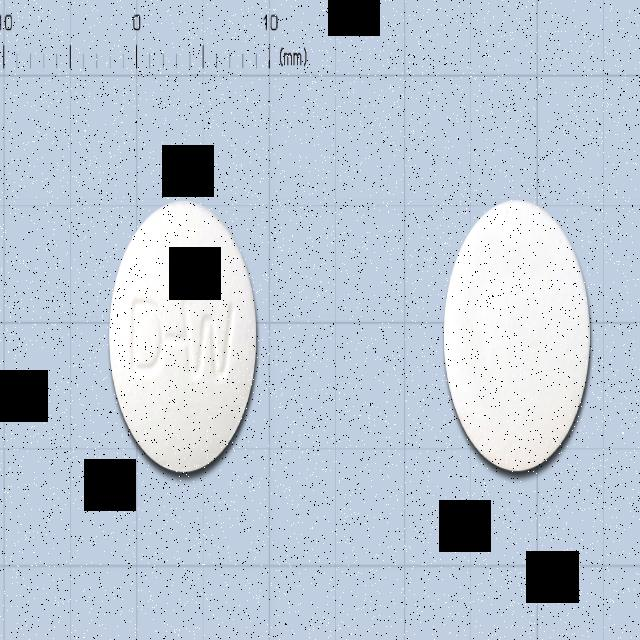Cipoxacin: (106, 195, 261, 480)
